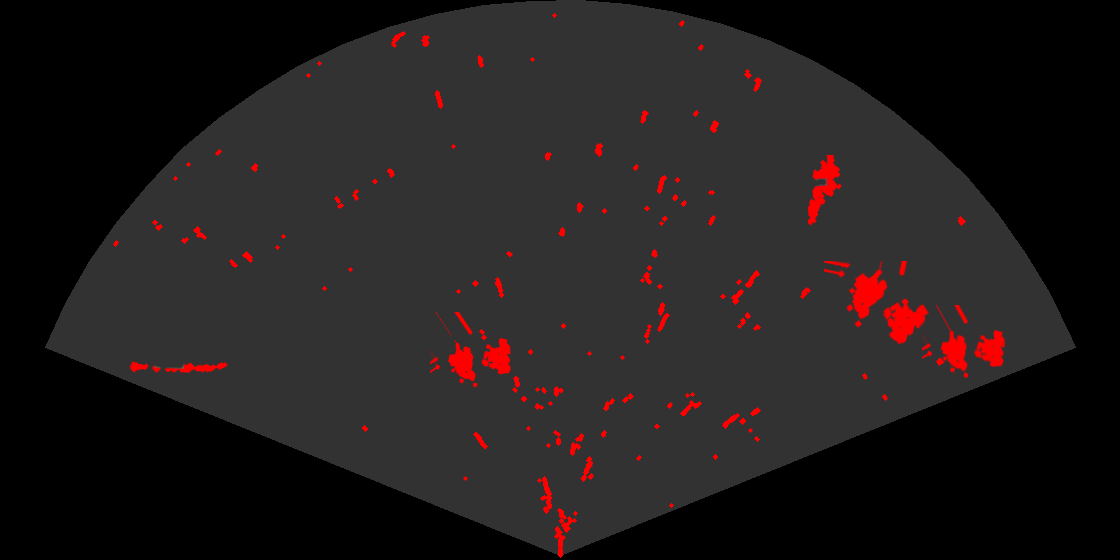cage: (824, 261, 930, 346), (430, 312, 513, 389), (922, 305, 1007, 380)
chain: (128, 360, 229, 374)
frogman: (806, 155, 843, 226)
